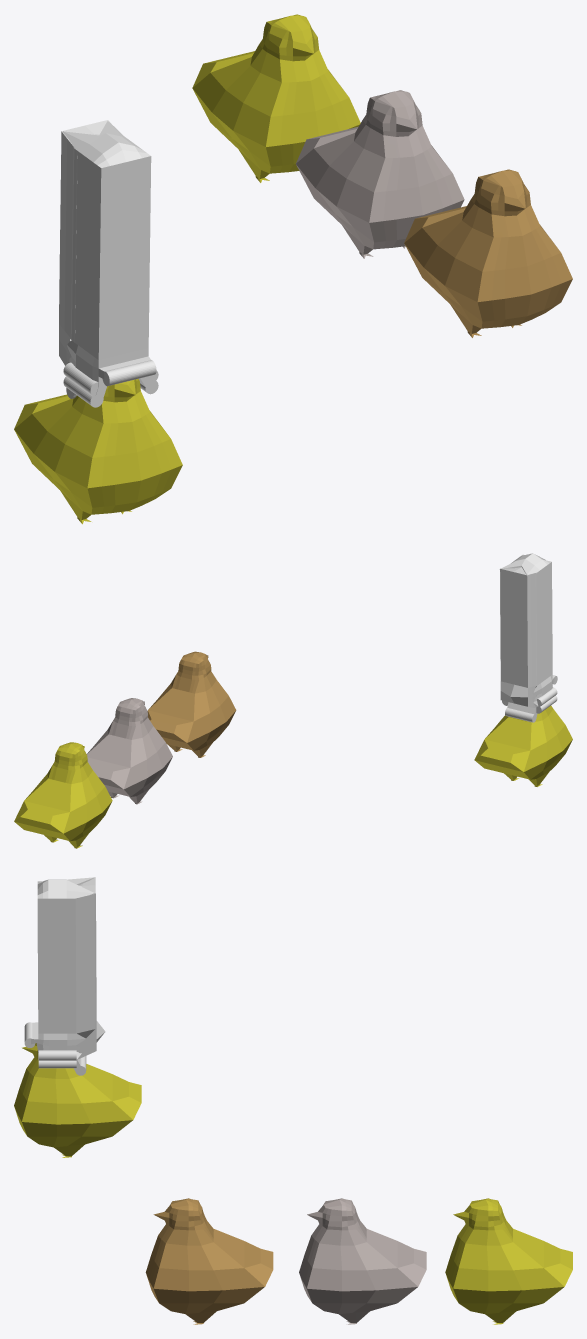
The model's file is All_Chicken_Colors_.fbx.
3 renders of one model, top to bottom at view 1: azimuth 30°, elevation 25°; view 2: azimuth 150°, elevation 25°; view 3: azimuth 270°, elevation 25°, orthographic. The views are drawn at different scales.
Visible parts, largest first — view 1: Cube, Cube.006, Cube.005, Cube.004, Cube.007, Cube.001, Cylinder.002; view 2: Cube.004, Cube.006, Cube.005, Cube.001, Cube.007, Cube; view 3: Cube.006, Cube.005, Cube.004, Cube, Cube.007, Cube.001.
Part boxes in pixels (bbox=[...]): Cube: bbox=[63, 121, 153, 398]; Cube.006: bbox=[404, 169, 572, 337]; Cube.005: bbox=[296, 90, 464, 258]; Cube.004: bbox=[192, 14, 360, 182]; Cube.007: bbox=[14, 378, 182, 524]; Cube.001: bbox=[59, 120, 111, 395]; Cylinder.002: bbox=[102, 360, 156, 386]; Cube.004: bbox=[14, 742, 112, 848]; Cube.006: bbox=[147, 651, 236, 757]; Cube.005: bbox=[86, 698, 172, 804]; Cube.001: bbox=[500, 567, 538, 716]; Cube.007: bbox=[474, 705, 572, 786]; Cube: bbox=[499, 553, 554, 707]; Cube.006: bbox=[145, 1198, 273, 1324]; Cube.005: bbox=[299, 1198, 426, 1324]; Cube.004: bbox=[445, 1198, 572, 1324]; Cube: bbox=[31, 877, 96, 1059]; Cube.007: bbox=[14, 1043, 141, 1157]; Cube.001: bbox=[74, 877, 105, 1072].
Size of the model in its own units: 2542 by 1563 by 2929.
